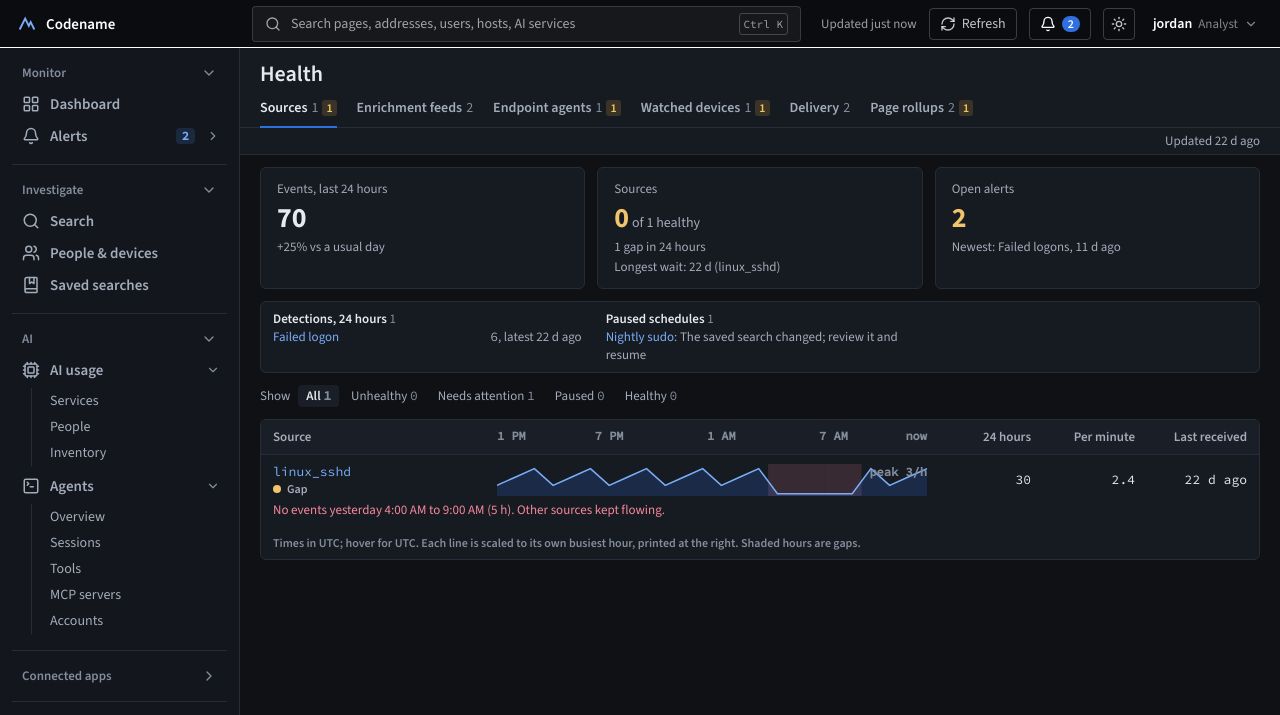
Test case: Health (ADR-0019) › does not offer device changes to analysts
Step 1. Click the link "Watched devices11" → click(705, 108), box [641, 98, 770, 117]
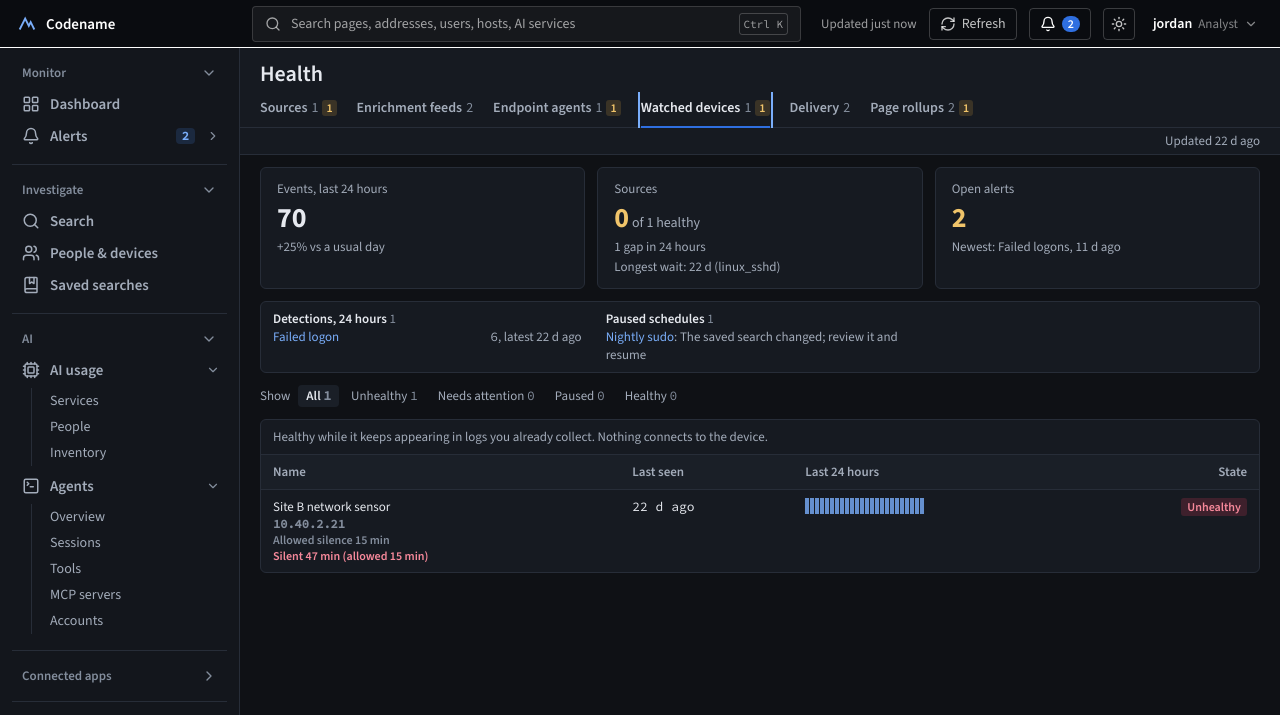
Result: the table named "Watched devices" is shown at [261, 455, 1259, 572]
